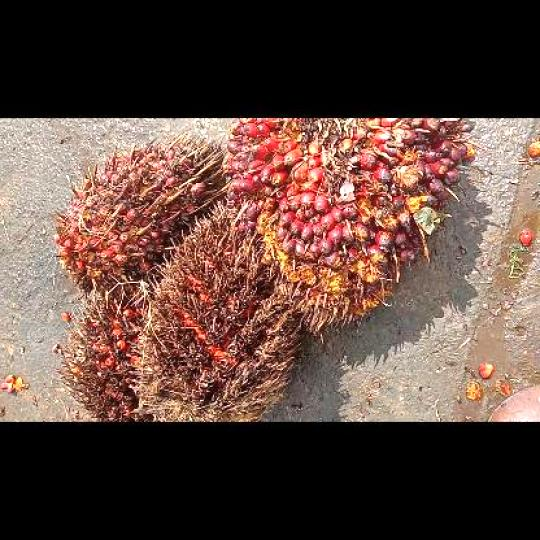masak: (222, 118, 479, 340), (48, 132, 230, 304)
terlalu masak: (125, 202, 303, 421), (55, 286, 153, 420)
